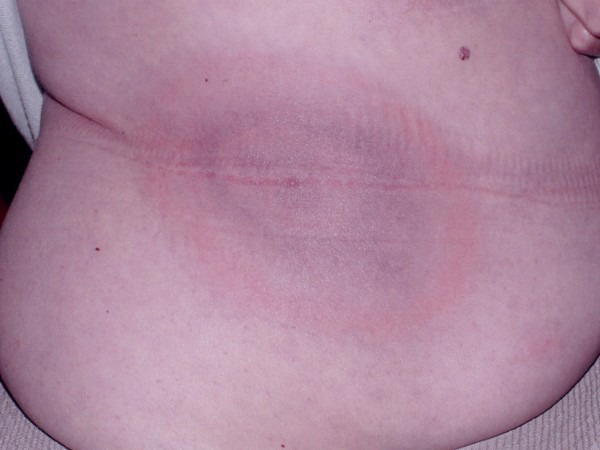Ringworm: (134, 36, 496, 344)
